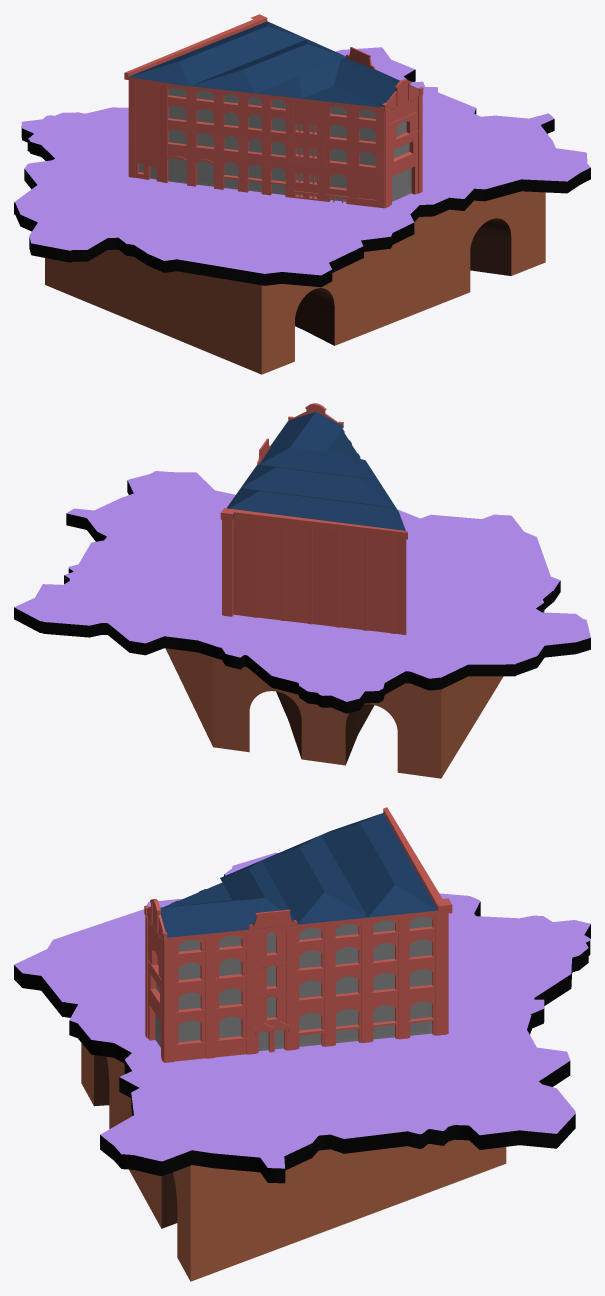
The model's file is leeds-office-v8.gltf.
The picture shows the model from 3 angles, top to bottom: view 1: azimuth 30°, elevation 25°; view 2: azimuth 150°, elevation 25°; view 3: azimuth 270°, elevation 25°; orthographic projection. The views are drawn at different scales.
Visible parts, largest first — view 1: yorkshire-map, leeds-building, tunnel, inner-blocker, led-5, led-2, led-8; view 2: yorkshire-map, leeds-building, tunnel; view 3: yorkshire-map, leeds-building, tunnel, inner-blocker, led-13, led-11, led-37, led-25, led-12.
Boxes of the visible parts, x1,y1,x2,y2 form: yorkshire-map: (14,47,590,287); leeds-building: (124,14,423,208); tunnel: (45,191,545,374); inner-blocker: (169,106,407,165); led-5: (248,164,285,194); led-2: (139,158,186,183); led-8: (392,168,411,201); yorkshire-map: (14,471,590,713); leeds-building: (220,403,407,634); tunnel: (165,648,503,778); yorkshire-map: (14,852,590,1183); leeds-building: (144,807,452,1062); tunnel: (81,1043,506,1281); inner-blocker: (179,932,289,1031); led-13: (373,1001,432,1039); led-11: (258,1012,321,1050); led-37: (373,939,432,960); led-25: (373,969,432,990); led-12: (336,1009,358,1043).
Size of the model in its own units: 0.5495 by 0.2324 by 0.4241.
